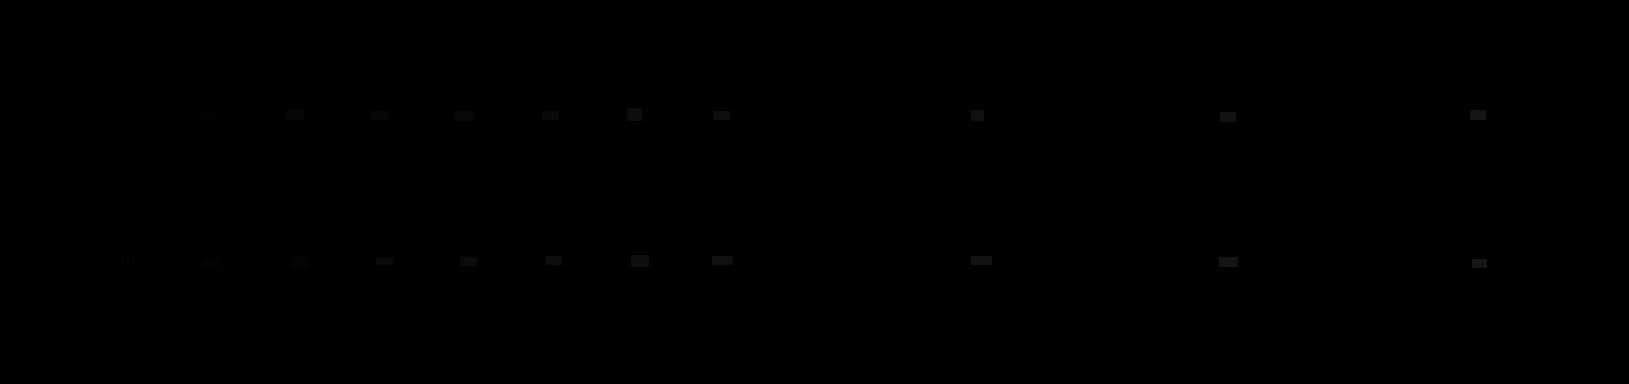light: (631, 255, 649, 267), (285, 110, 304, 120), (291, 256, 309, 268), (627, 108, 642, 121), (455, 111, 474, 121), (1219, 257, 1238, 267), (712, 256, 733, 265), (199, 111, 216, 121), (971, 256, 992, 265), (1220, 112, 1236, 122), (713, 111, 730, 120), (202, 258, 221, 267), (1470, 110, 1486, 120), (371, 111, 388, 120), (542, 111, 559, 120), (121, 256, 135, 267), (971, 110, 984, 121), (460, 257, 477, 266), (546, 256, 562, 265), (1472, 259, 1487, 268), (118, 110, 130, 120), (376, 258, 393, 265)
